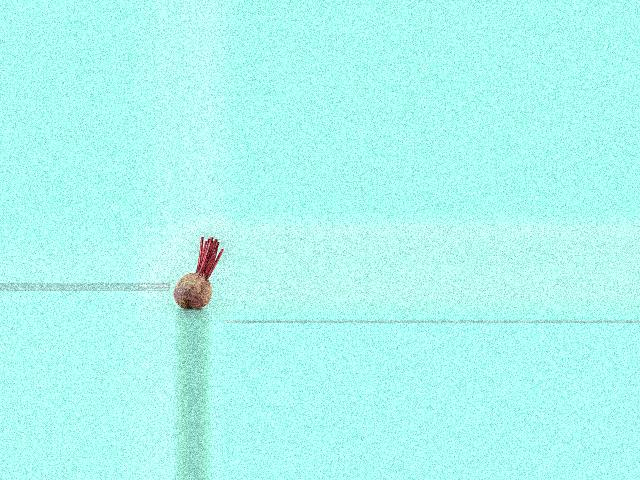beet: (172, 237, 222, 309)
